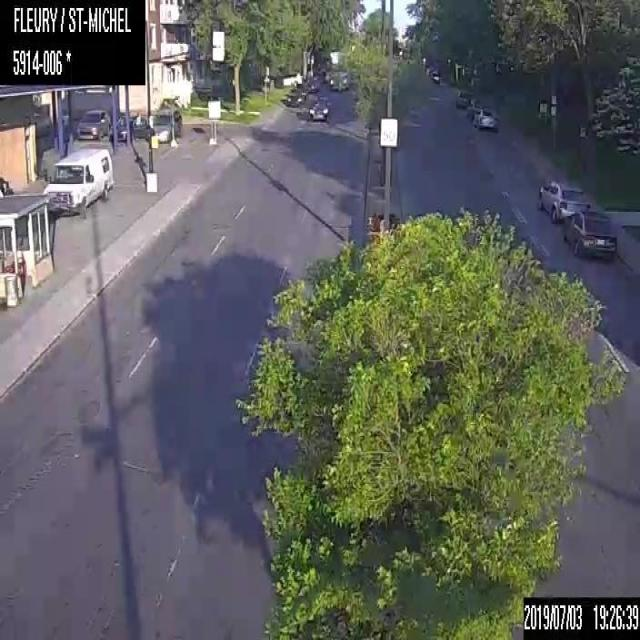vehicle: (42, 148, 112, 217), (562, 209, 616, 262), (537, 178, 590, 223), (144, 106, 182, 142), (76, 108, 110, 138), (325, 50, 349, 91), (108, 114, 135, 142), (472, 105, 499, 131), (308, 95, 332, 121), (286, 82, 306, 106), (132, 114, 149, 138), (454, 88, 472, 108), (466, 98, 483, 118), (306, 79, 320, 92), (429, 71, 439, 85)
